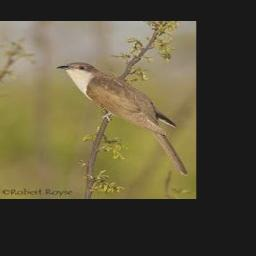Cuckoo: (56, 62, 188, 176)
